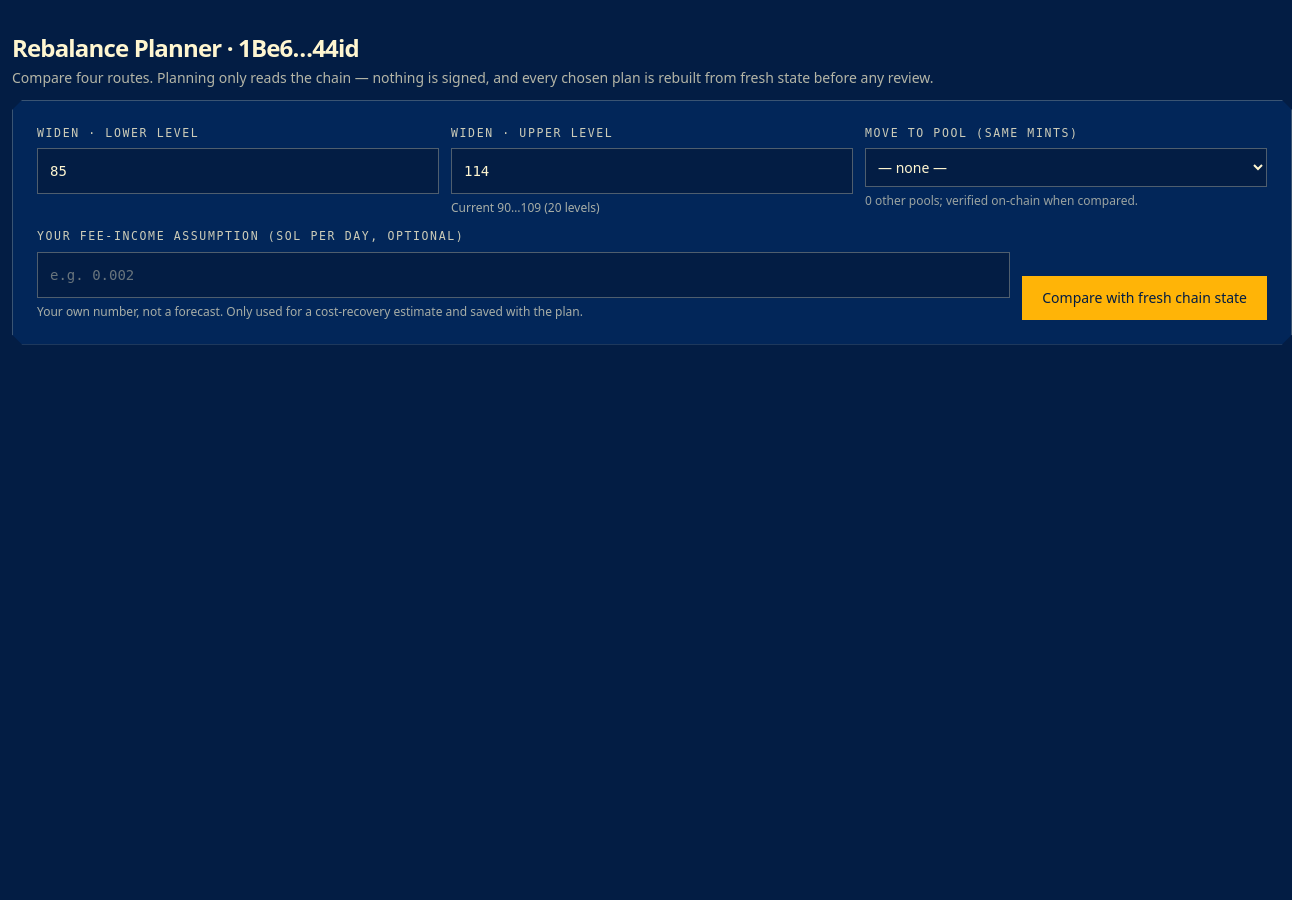
Planner UI boundaries › watch-only comparisons save evidence but never enable a wallet review
The image size is (1292, 900).
Click the button "Compare with fresh chain state" at (1145, 298), box [1022,276,1267,320]
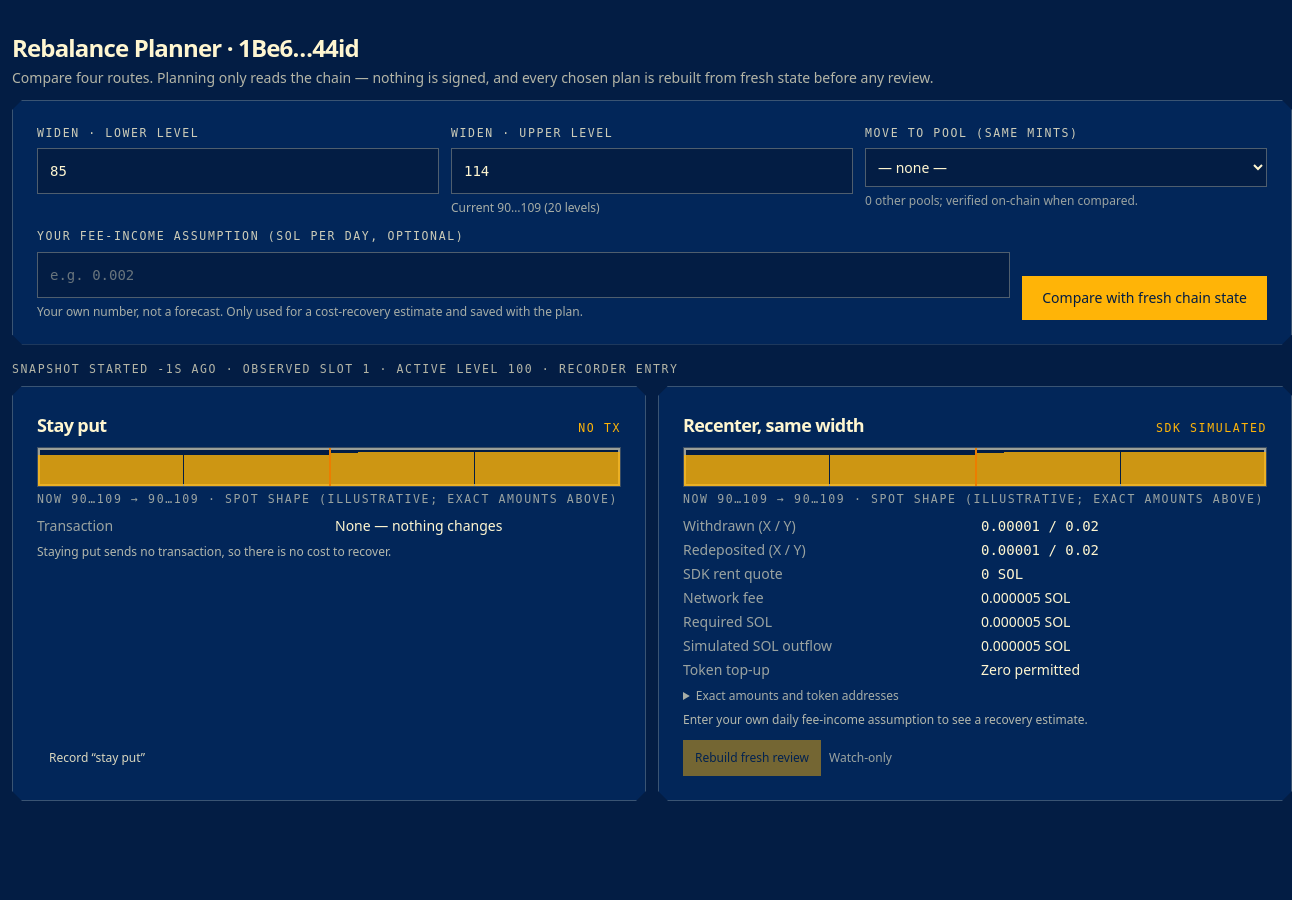
Result: the button "Rebuild fresh review" is disabled at [683,740,821,776]
Click the button "Record “stay put”" at (97, 758), box [37,740,157,776]
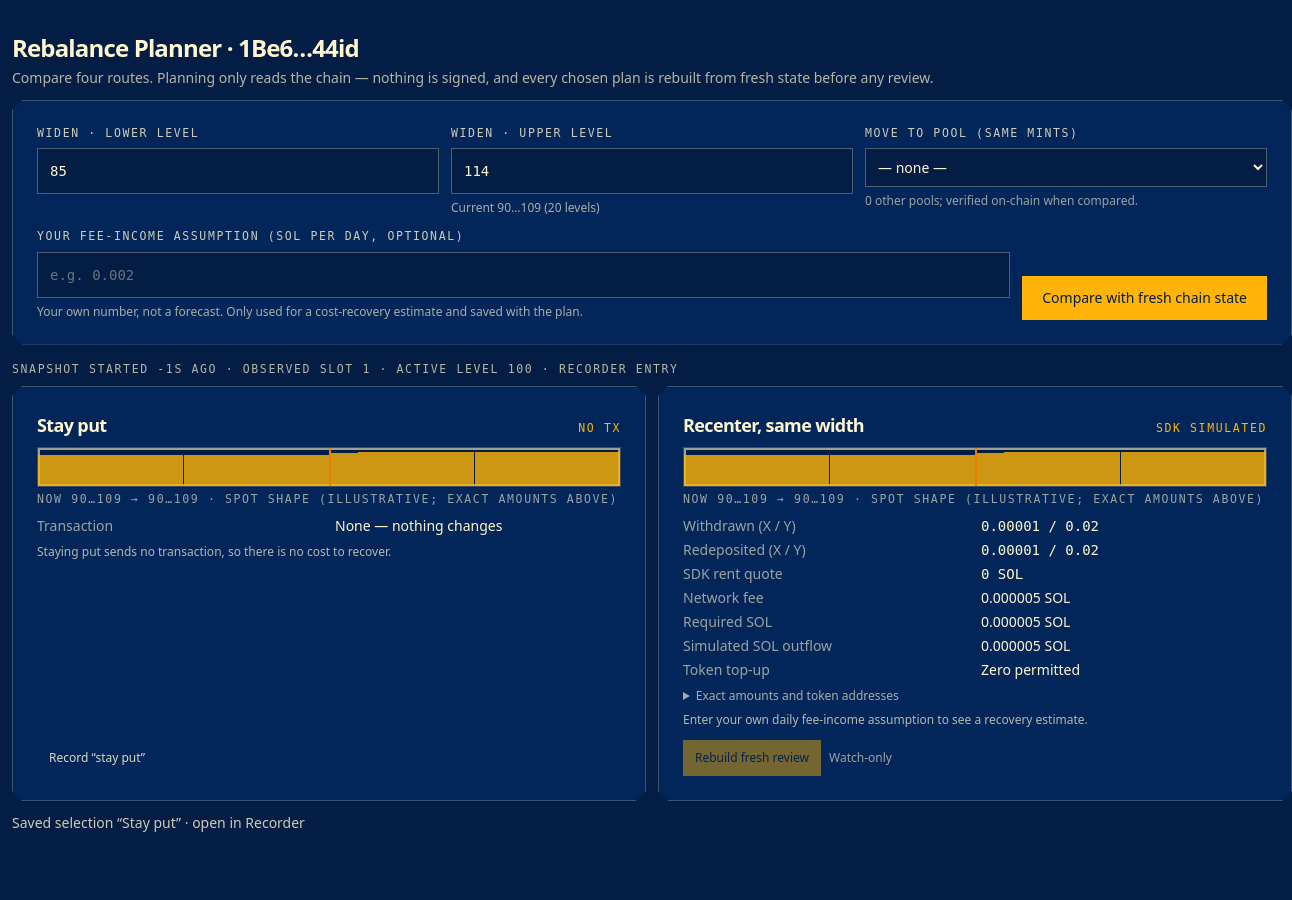
Result: the text "Saved selection “Stay put” · open in Recorder" is shown at [12,813,305,832]
